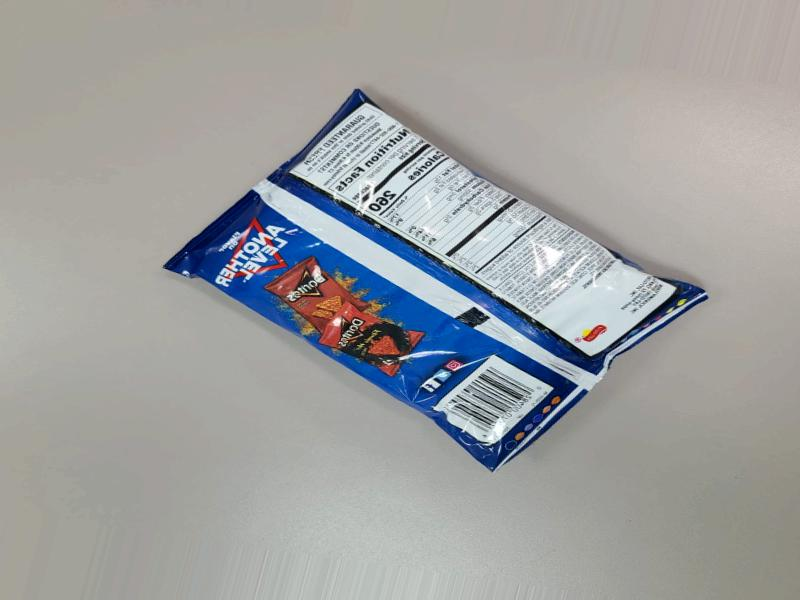doritos: (214, 143, 704, 455)
